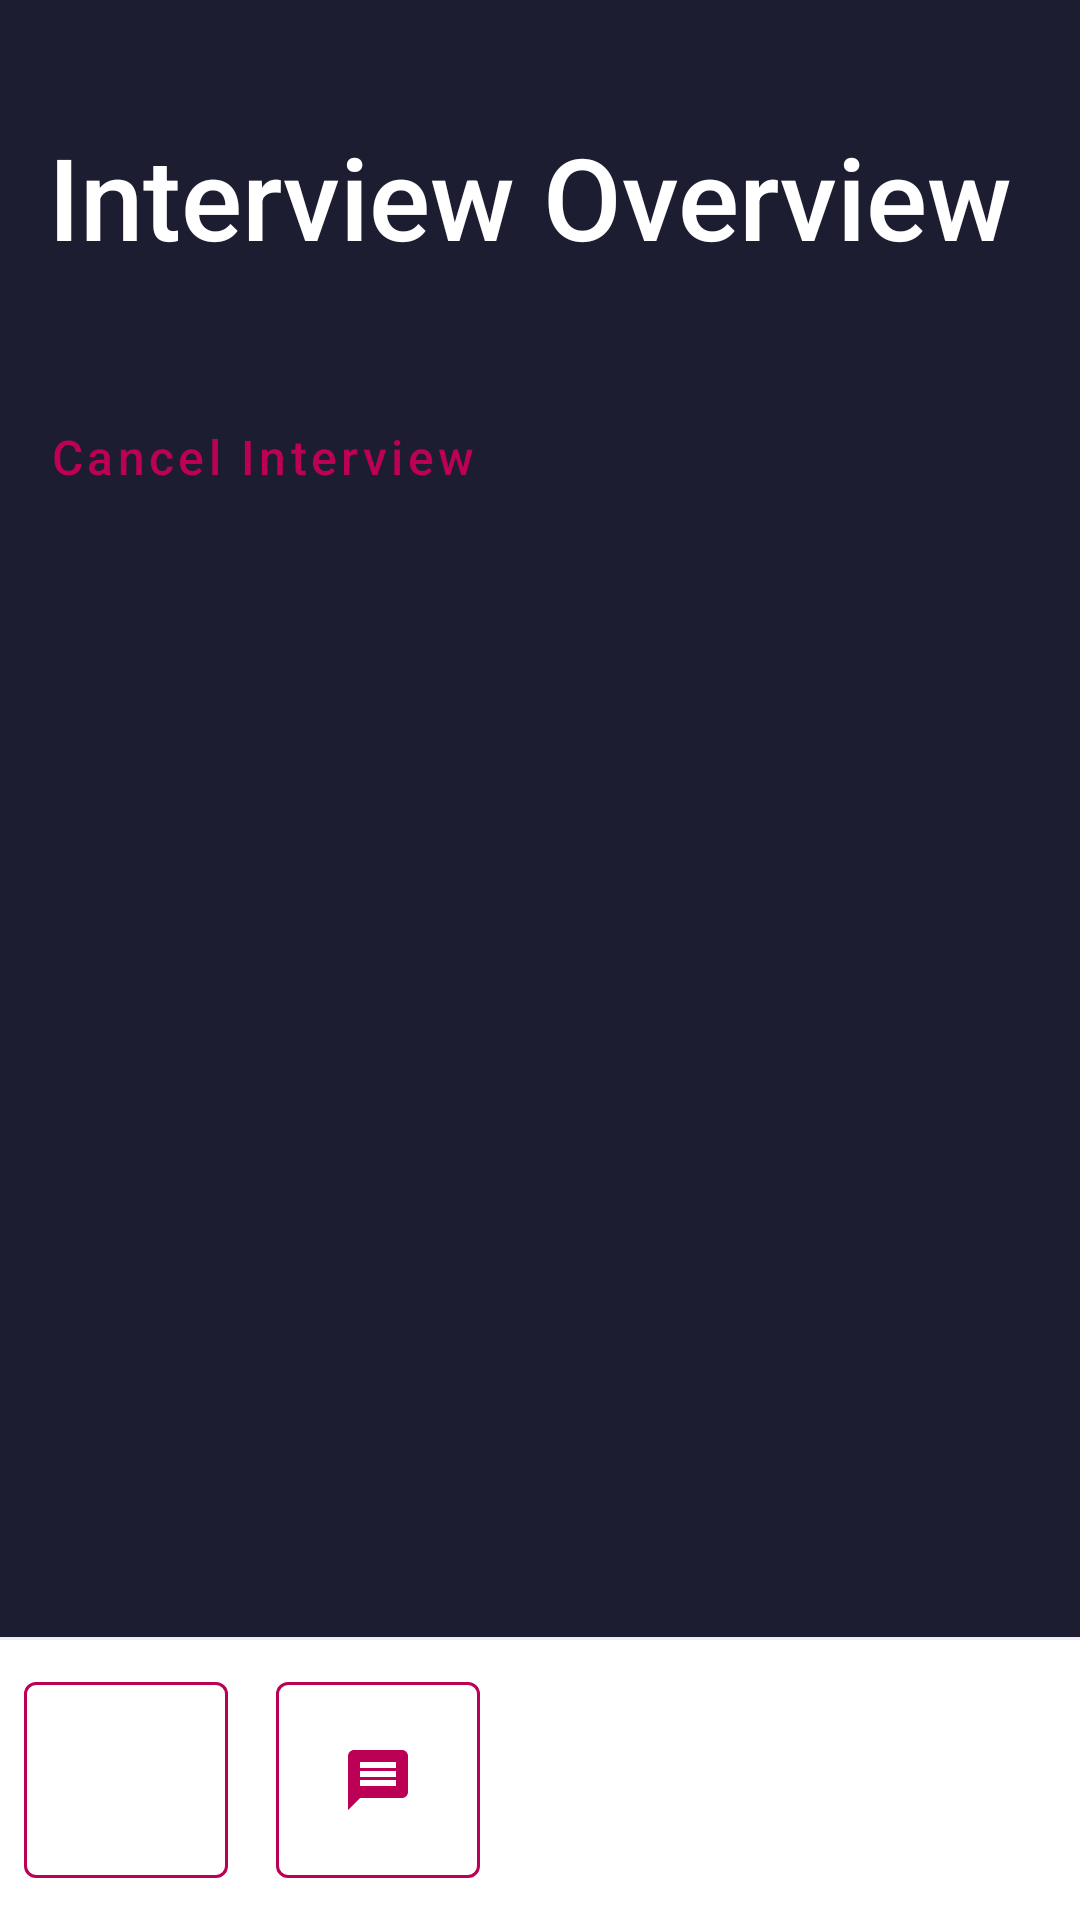

Icon bounding boxes for this 1080*1920 phone screenshot, format (x1, y1, x2, y2):
message: (276, 1682, 480, 1878)
